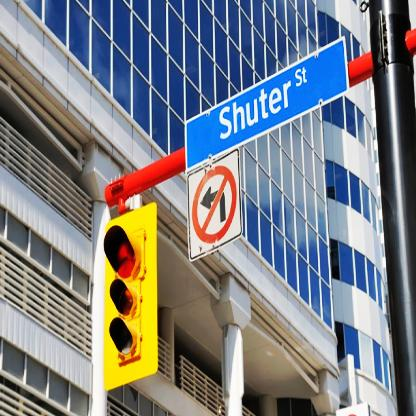No left turn: (186, 155, 248, 249)
